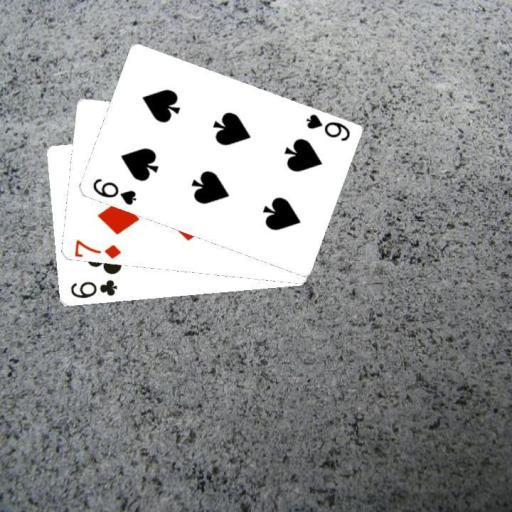6C: (67, 277, 118, 301)
6S: (89, 175, 138, 207), (303, 111, 352, 143)
7D: (71, 237, 122, 260)
